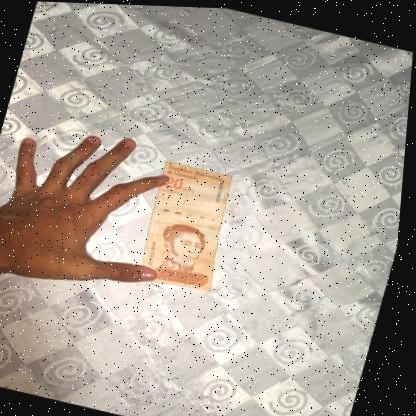twenty-front-vef: (137, 156, 245, 293)
